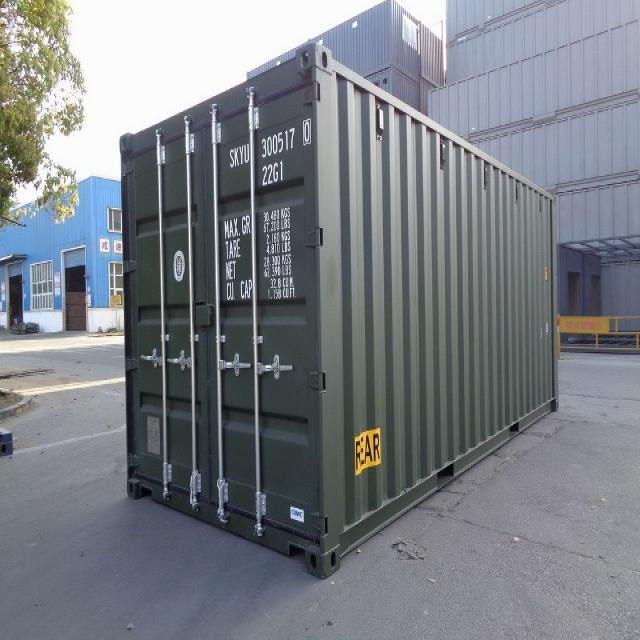container_number_h: (224, 116, 315, 189)
